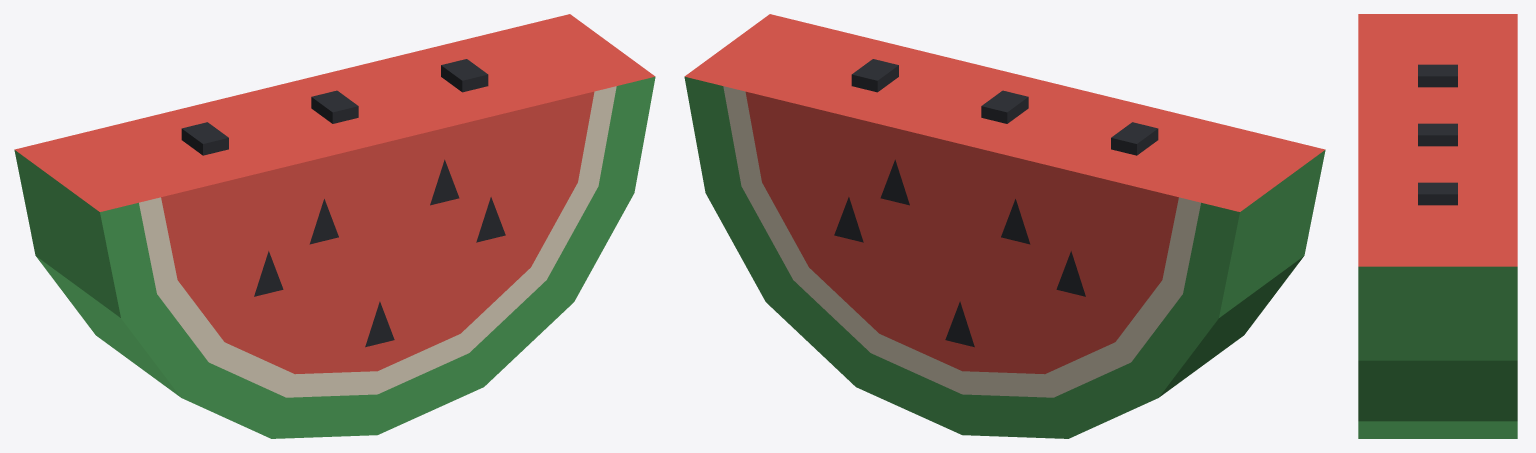
The model's file is J_Watermelon.fbx.
The picture shows the model from 3 angles, left to right: view 1: azimuth 30°, elevation 25°; view 2: azimuth 150°, elevation 25°; view 3: azimuth 270°, elevation 25°; orthographic projection. The views are drawn at different scales.
Parts seen in each view (by area): view 1: J_Watermelon; view 2: J_Watermelon; view 3: J_Watermelon.
Boxes of the visible parts, bbox=[...] form: J_Watermelon: bbox=[14, 14, 655, 438]; J_Watermelon: bbox=[684, 14, 1325, 438]; J_Watermelon: bbox=[1358, 14, 1517, 438].
Bounding box in the file's own units: 0.6 × 0.312 × 0.168.
